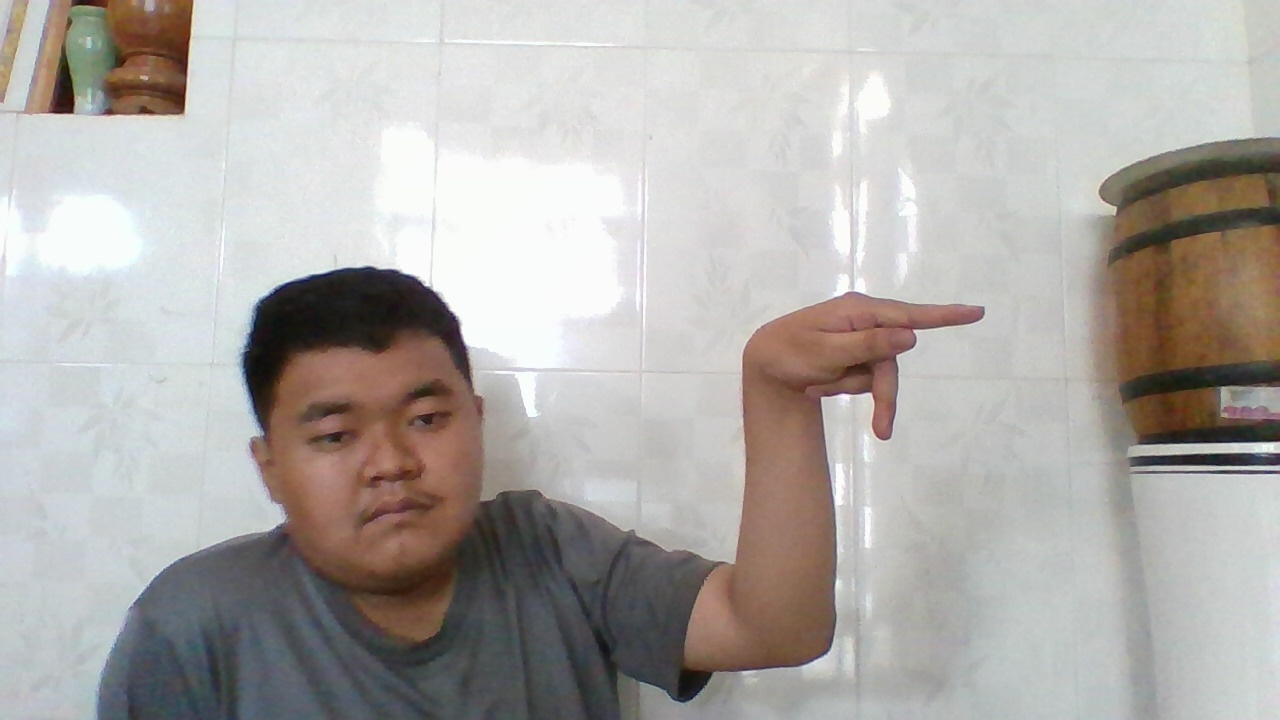P: (747, 289, 993, 429)
